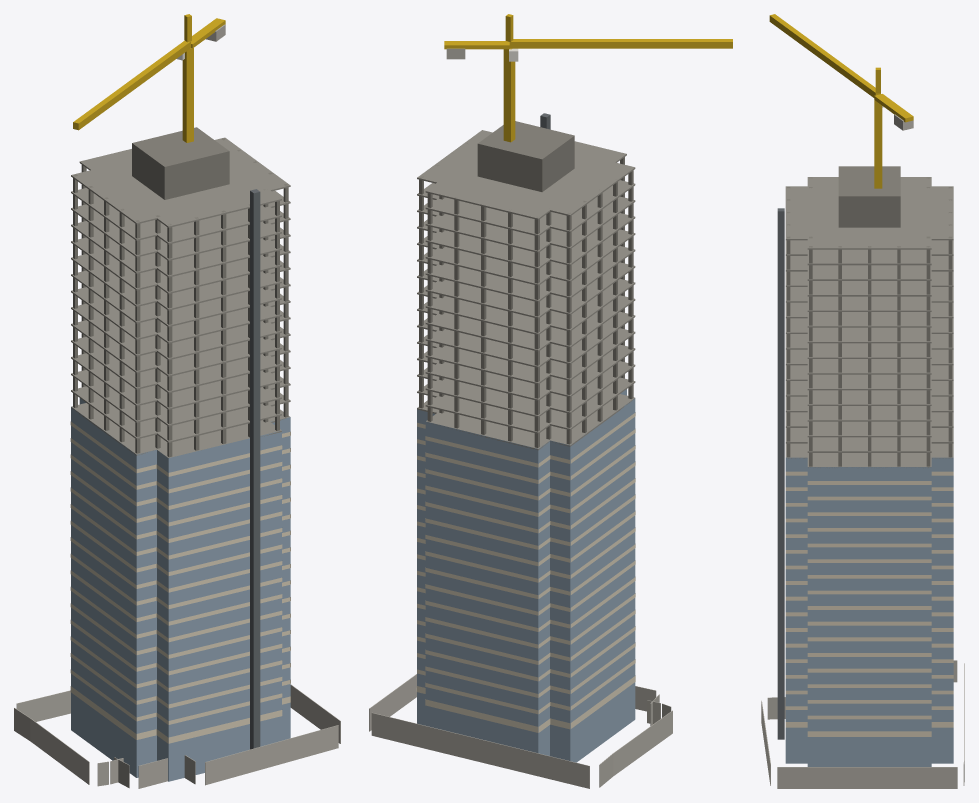
File: capitol-tower-under-construction.glb
3 renders of one model, left to right at view 1: azimuth 30°, elevation 25°; view 2: azimuth 150°, elevation 25°; view 3: azimuth 270°, elevation 25°, orthographic. The views are drawn at different scales.
Visible parts, largest first — view 1: capitol_tower_under_construction; view 2: capitol_tower_under_construction; view 3: capitol_tower_under_construction.
Boxes of the visible parts, <box> form: capitol_tower_under_construction: <box>14,14,340,788</box>; capitol_tower_under_construction: <box>369,14,732,788</box>; capitol_tower_under_construction: <box>761,14,964,788</box>.
Bounding box in the file's own units: 66.46 × 168 × 45.98.
